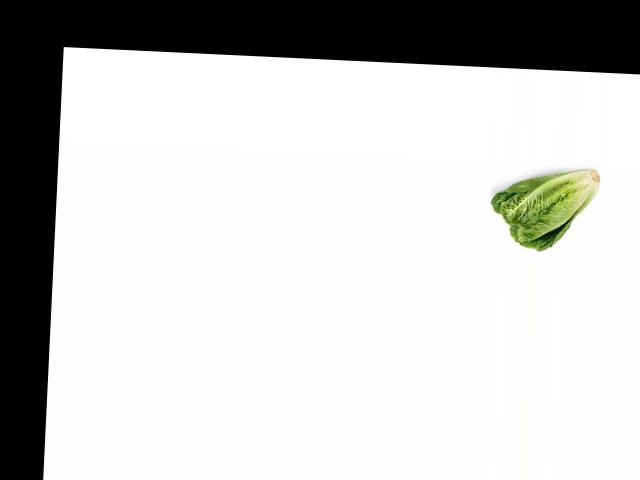lettuce: (489, 161, 608, 253)
